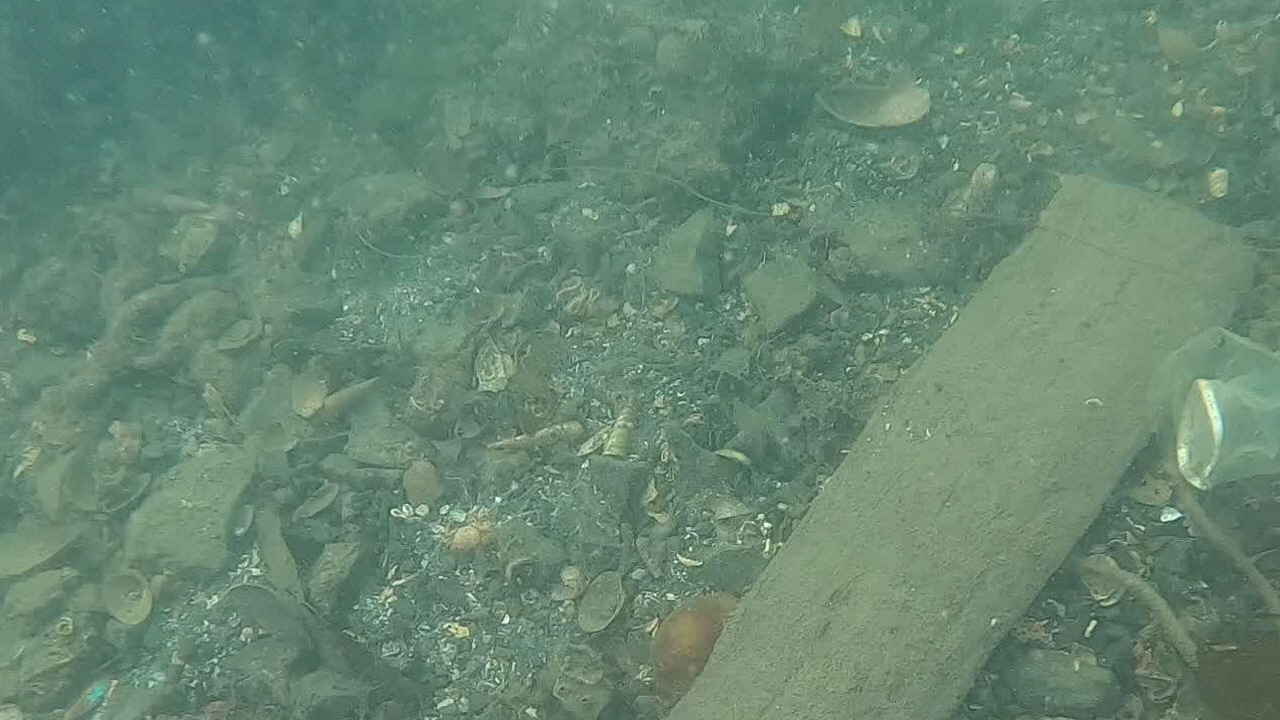wood: (658, 168, 1256, 719)
